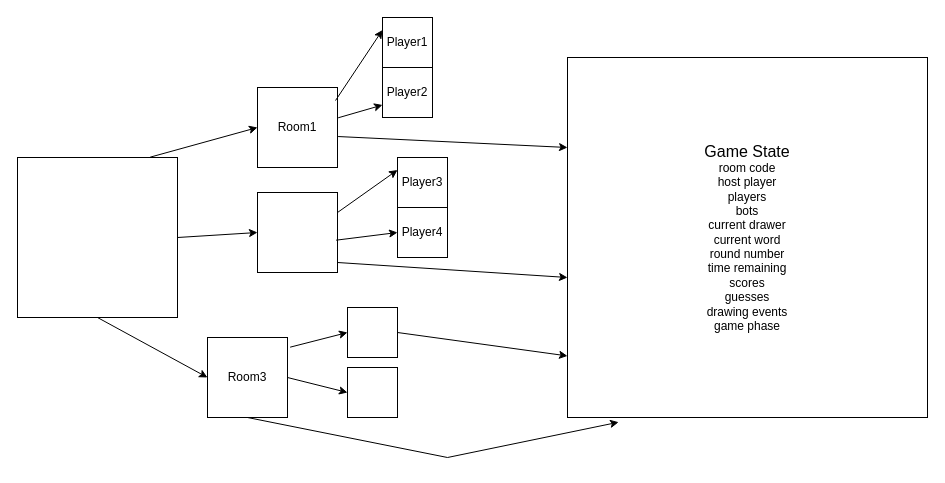
Some shapes in this 945 by 483 pixel diagram are drawn without their labels. Each missing label, with the box of its shape:
Player5: (346, 306, 398, 358)
player6: (346, 366, 398, 418)
Room2: (256, 192, 338, 272)
RoomManager: (16, 156, 178, 318)
